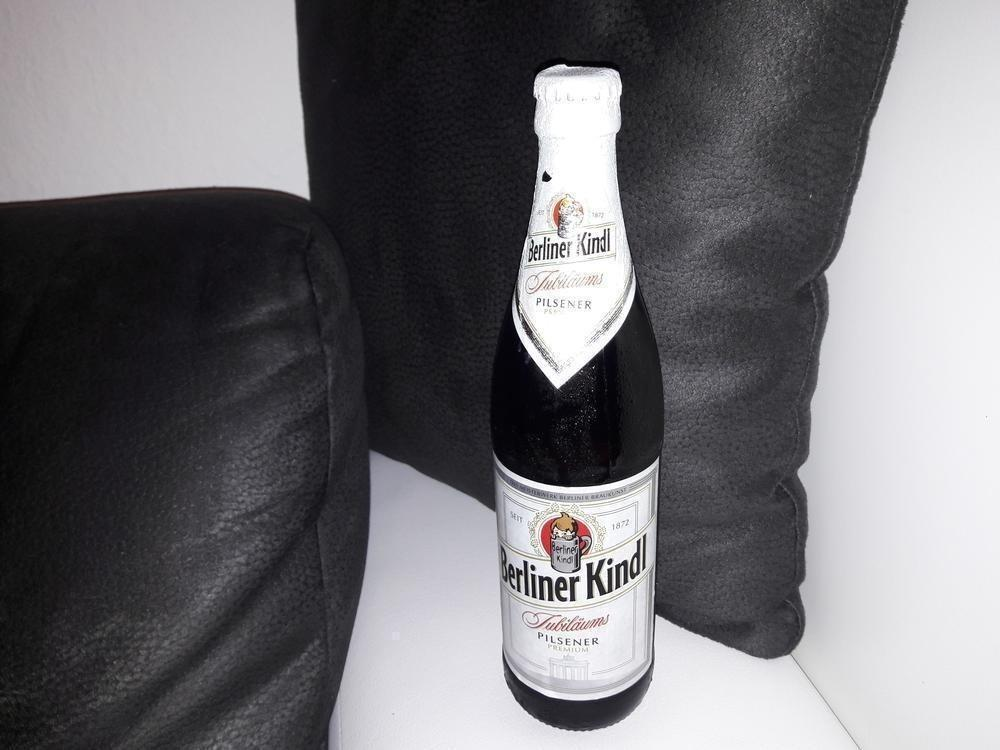bottle-glass: (487, 61, 666, 732)
